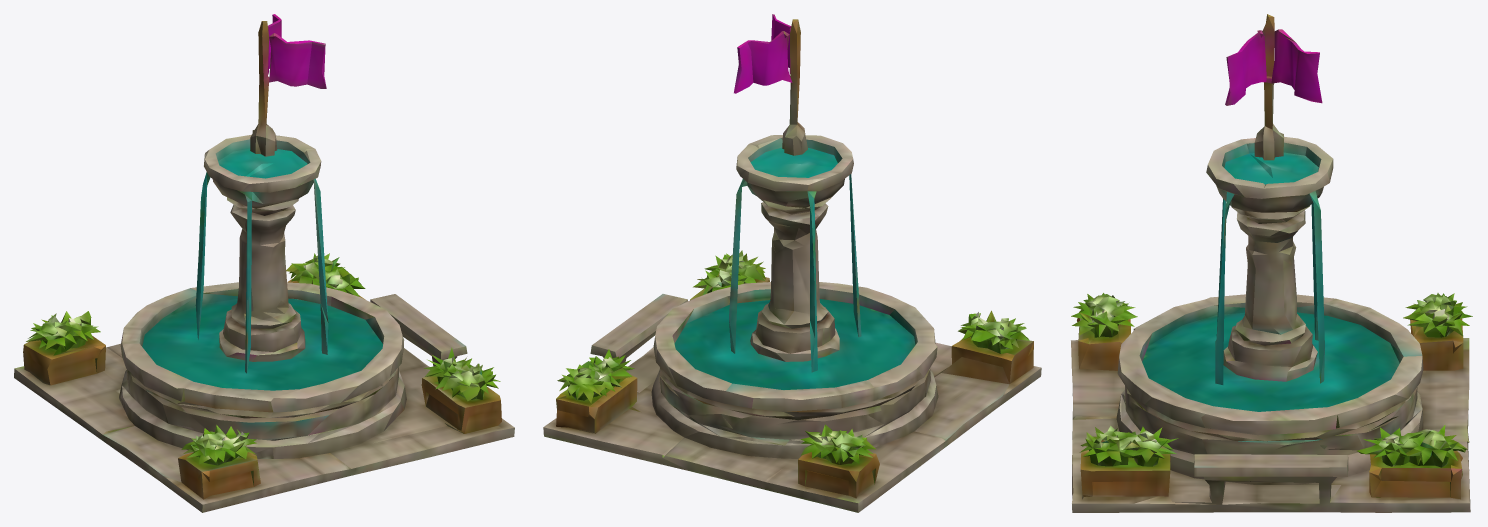
The model's file is fountain.lod2.glb.
The picture shows the model from 3 angles, left to right: view 1: azimuth 30°, elevation 25°; view 2: azimuth 150°, elevation 25°; view 3: azimuth 270°, elevation 25°; orthographic projection. The views are drawn at different scales.
Visible parts, largest first — view 1: fountain.lod2_uv; view 2: fountain.lod2_uv; view 3: fountain.lod2_uv.
Boxes of the visible parts, x1,y1,x2,y2 form: fountain.lod2_uv: (14, 14, 514, 512); fountain.lod2_uv: (543, 14, 1041, 512); fountain.lod2_uv: (1071, 14, 1472, 512).
Bounding box in the file's own units: 1.68 × 1.9 × 1.67.
1 material, 1 textured.
